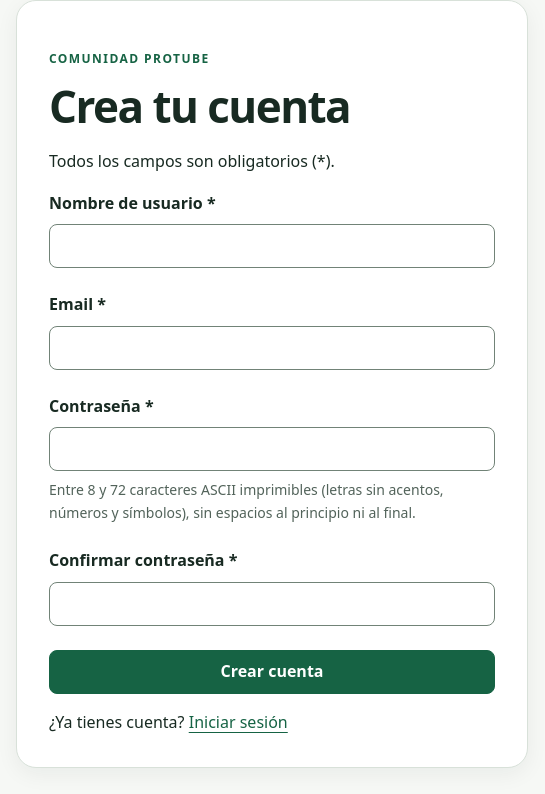
it: validates Contraseña * locally (short)
This screenshot has width=545, height=794.
Type "Anna" into the field labelled "Nombre de usuario *". click: x=272, y=246
box: [49, 224, 495, 268]
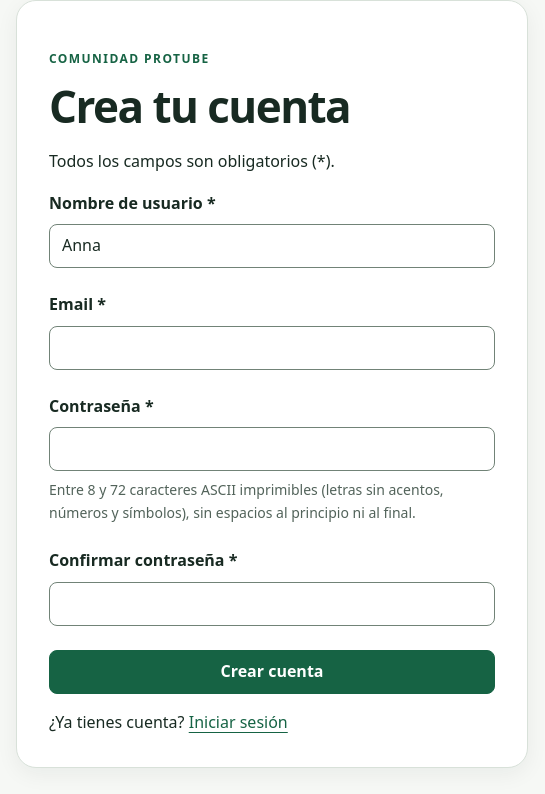
Type "anna@example.com" into the field labelled "Email *". click: x=272, y=348
box: [49, 326, 495, 370]
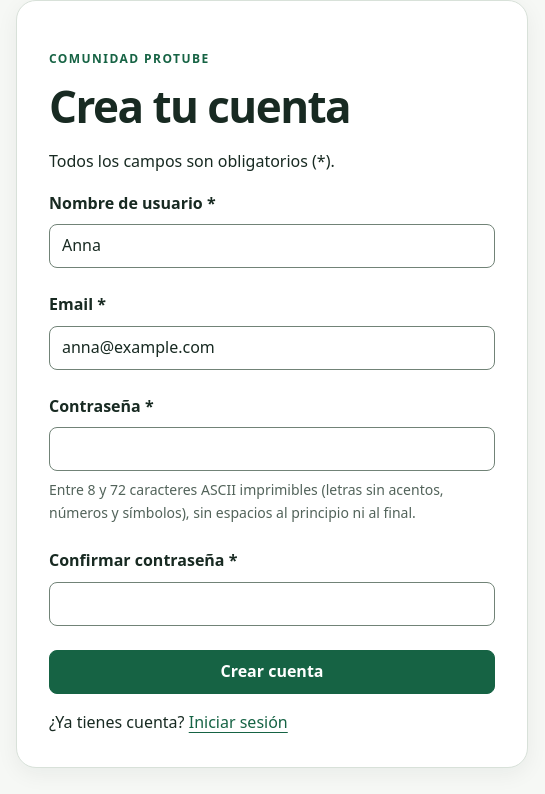
Type "Password1!" into the password field labelled "Contraseña *". click: x=272, y=449
box: [49, 427, 495, 471]
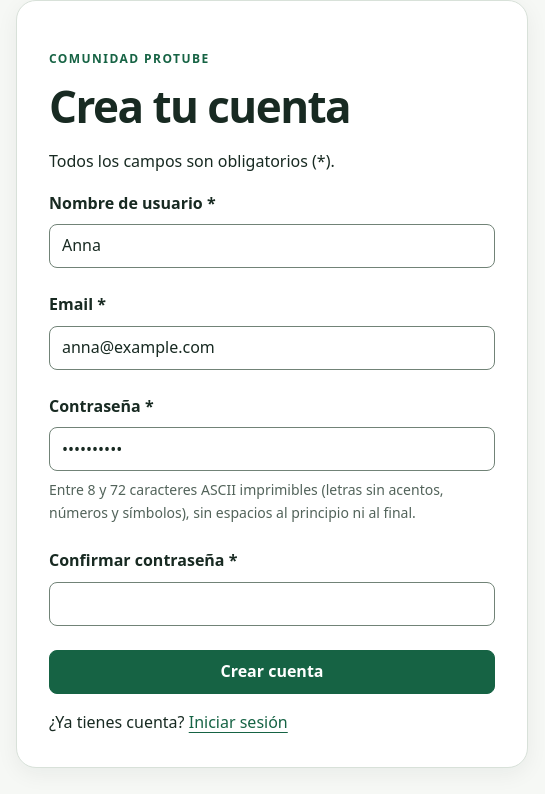
Type "Password1!" into the password field labelled "Confirmar contraseña *". click: x=272, y=604
box: [49, 582, 495, 626]
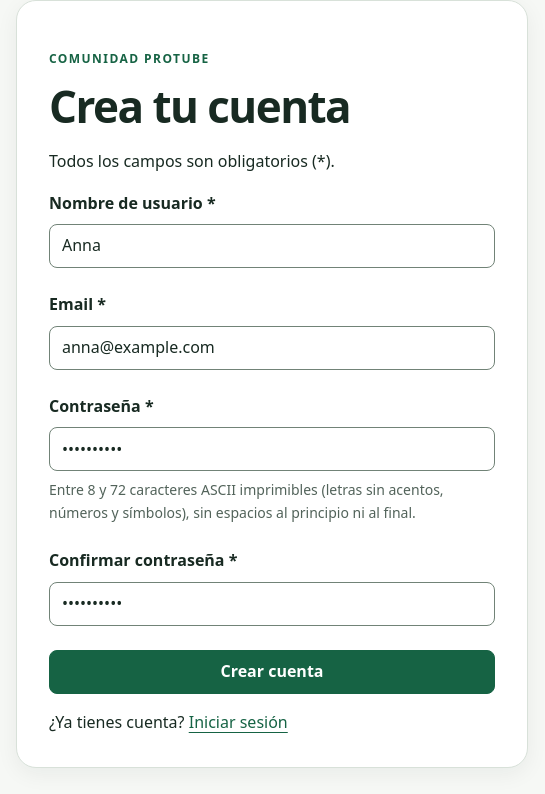
Type "short" into the password field labelled "Contraseña *". click: x=272, y=449
box: [49, 427, 495, 471]
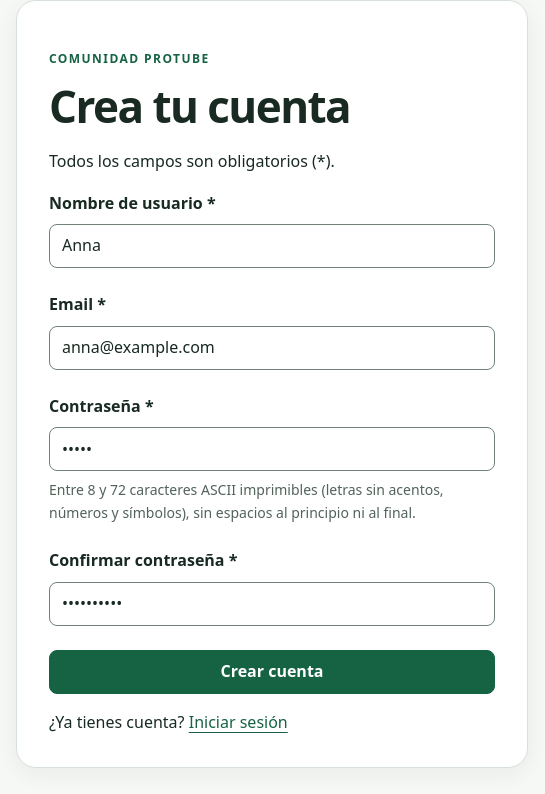
Click the button. click: x=272, y=672
box: [49, 650, 495, 694]
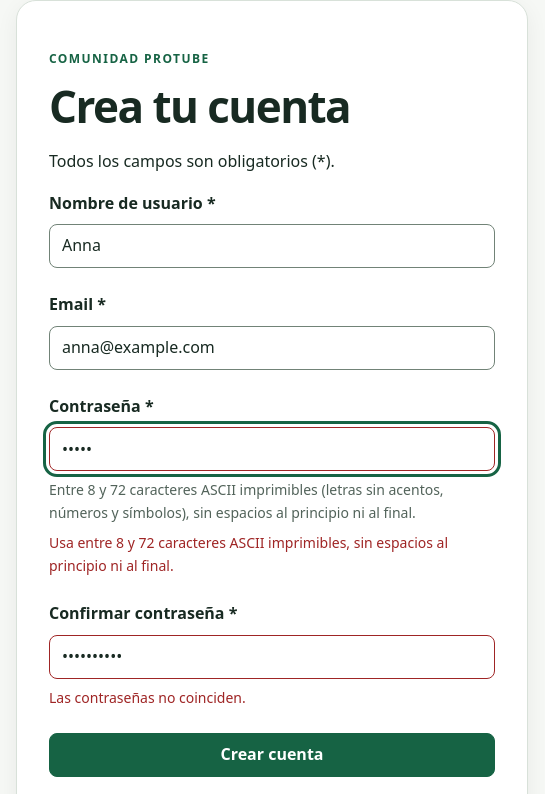
Result: the text "Usa entre 8 y 72" is shown at [49, 533, 448, 574]
